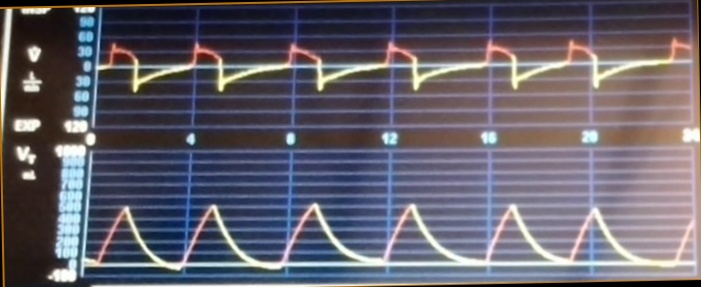Normal Flow: (100, 21, 692, 110)
Normal Volume: (88, 186, 695, 273)
